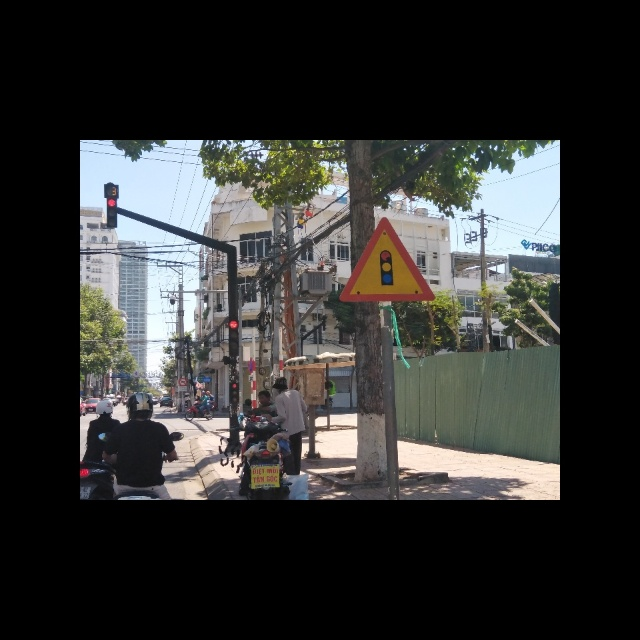Giao nhau có tín hiệu đèn: (336, 216, 440, 304)
Đèn đỏ: (229, 320, 238, 329)
